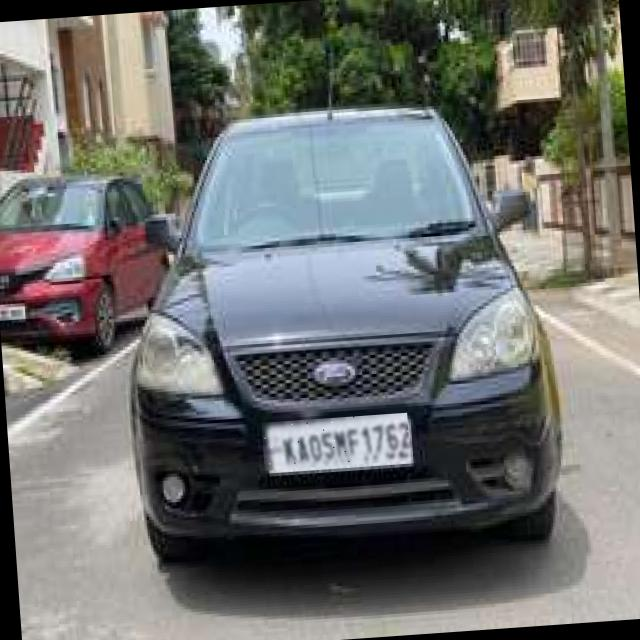Plate: (262, 413, 411, 471)
